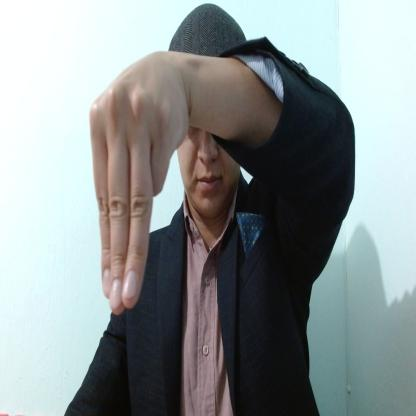M: (90, 52, 190, 310)
